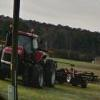Tractor: (6, 21, 63, 91)
